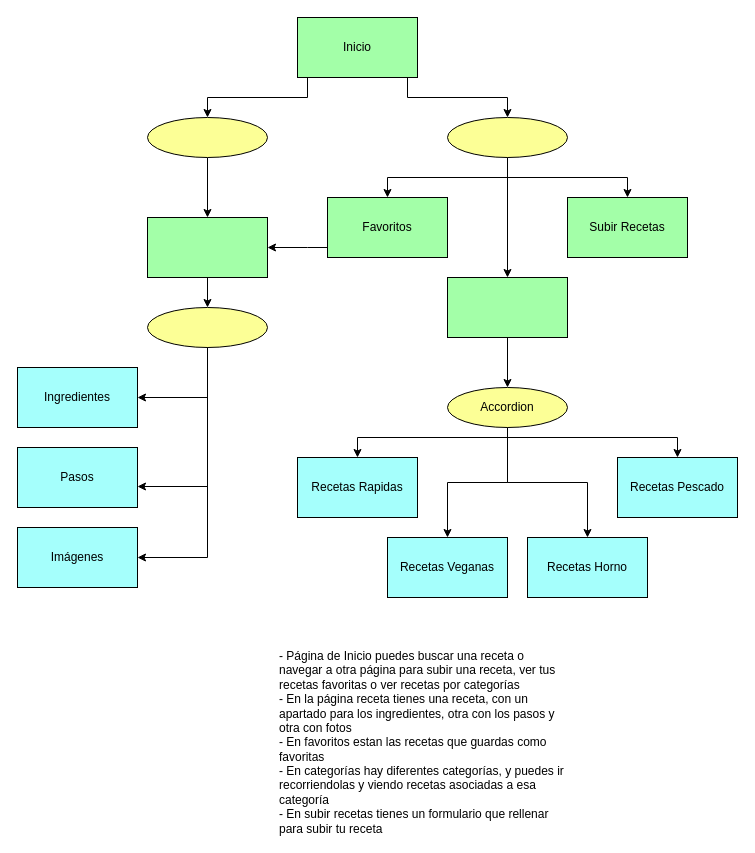
Some shapes in this 755 by 853 pixel diagram are drawn without their labels. The shapes that lost their labels are listed below. From the top down, each one's centre as x and y in pixels, then its label:
At point (207, 137): "Combobox".
At point (507, 137): "Menubutton".
At point (207, 247): "Receta".
At point (207, 327): "Tab".
At point (507, 307): "Categorías".
